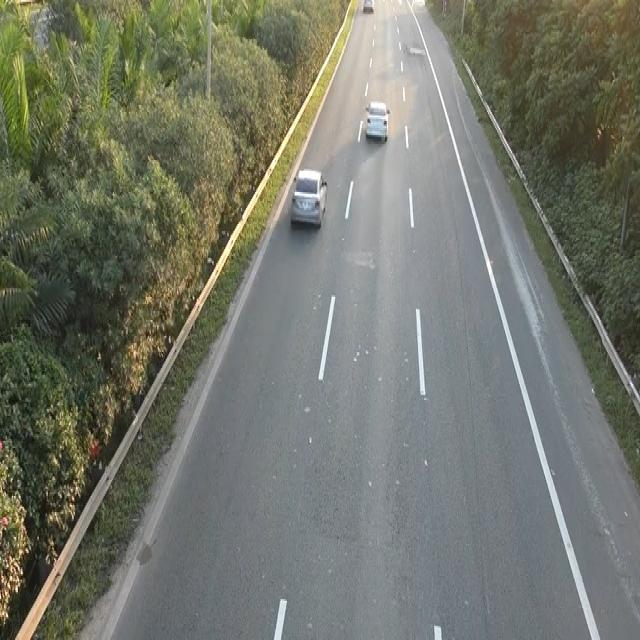bus: (289, 166, 328, 230), (363, 96, 390, 142)
